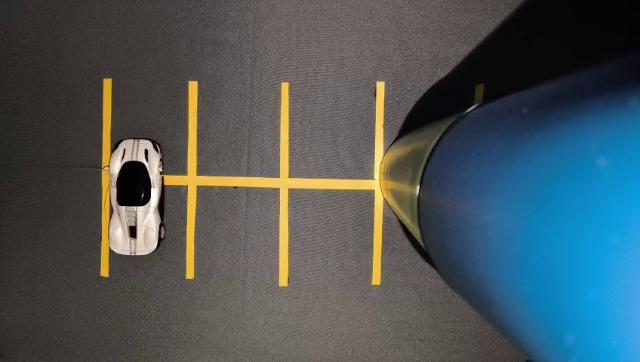toy_car: (60, 93, 191, 273)
